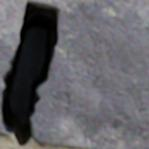brick: (0, 0, 148, 148), (0, 112, 10, 134)
crack: (0, 2, 58, 147)
